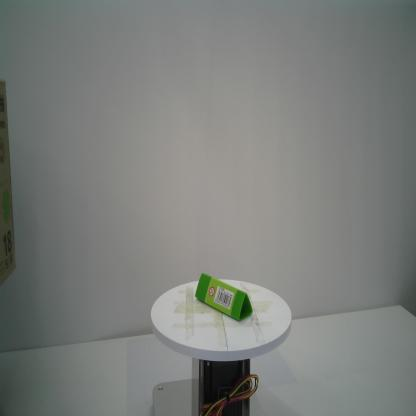Stationery: (194, 272, 254, 323)
